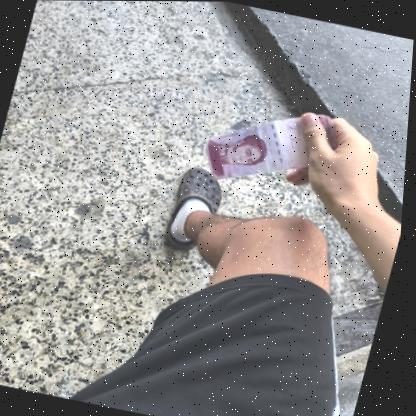one_hundred-front-vef: (197, 92, 346, 202)
